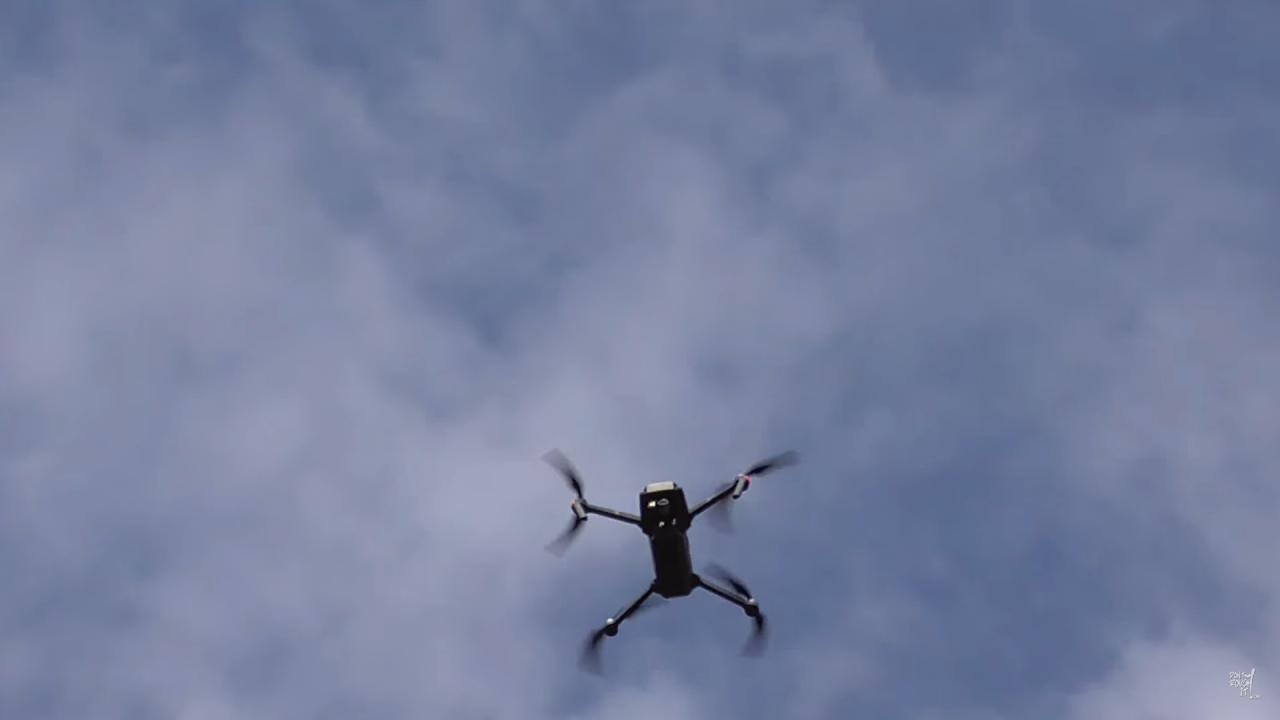Drone: (502, 423, 846, 704)
